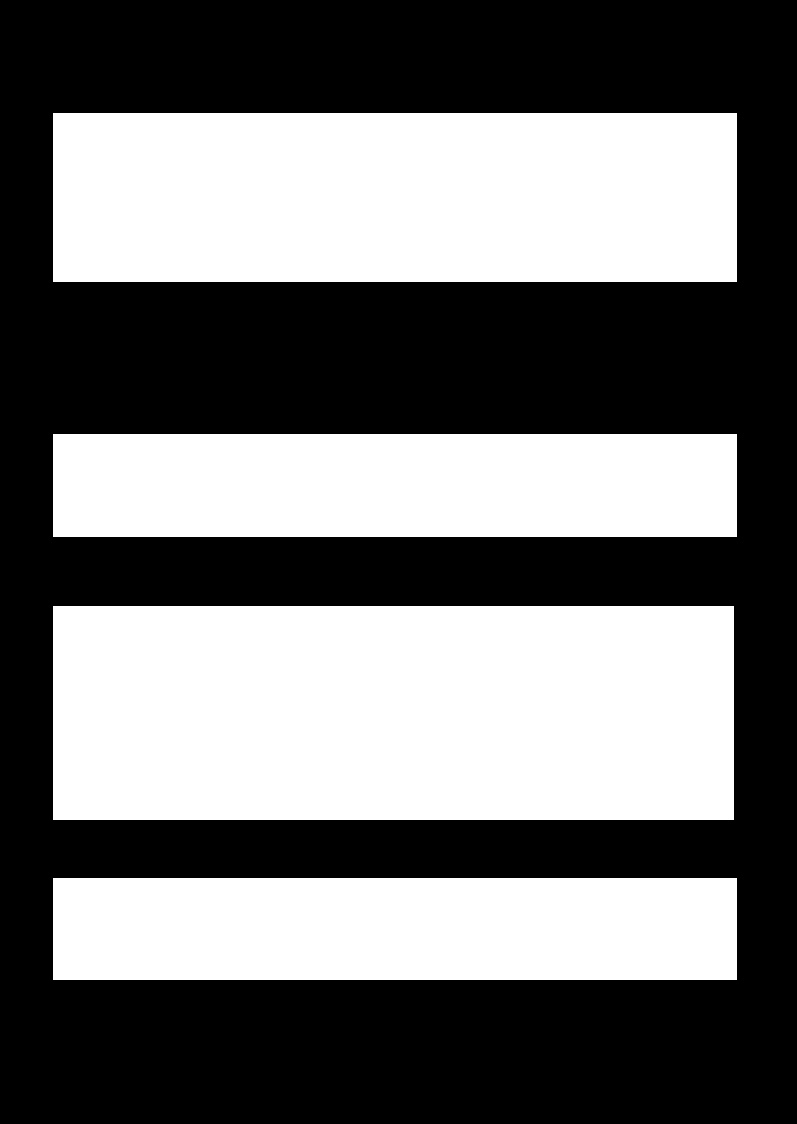table: (53, 606, 733, 819), (53, 113, 736, 281), (53, 434, 736, 536), (53, 878, 736, 979)
